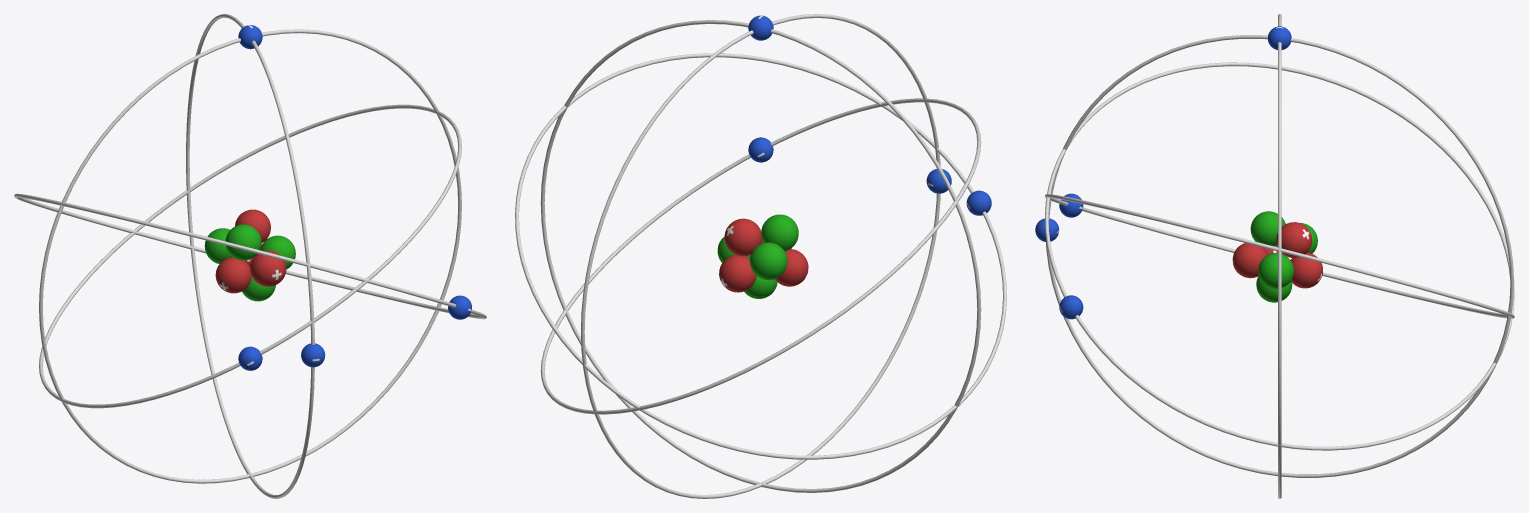
3 renders of one model, left to right at view 1: azimuth 30°, elevation 25°; view 2: azimuth 150°, elevation 25°; view 3: azimuth 270°, elevation 25°, orthographic. The views are drawn at different scales.
Parts seen in each view (by area): view 1: Orbit.011, Orbit.010, Orbit.009, Orbit.008, Proton.001, Proton.003, Neutron.002, Proton.002, Neutron.004, Neutron.003; view 2: Orbit.011, Orbit.010, Orbit.009, Orbit.008, Neutron.004, Proton.002, Proton.000, Neutron.002, Proton.001; view 3: Orbit.009, Orbit.008, Orbit.010, Orbit.011, Neutron.003, Proton.002, Proton.003, Proton.000, Neutron.002.
Part boxes in pixels (x1,y1,x2,y2): Orbit.011: (39,29,461,483); Orbit.010: (39,104,461,408); Orbit.009: (186,14,314,498); Orbit.008: (14,193,486,319); Proton.001: (215,257,251,293); Proton.003: (250,250,286,286); Neutron.002: (225,224,261,260); Proton.002: (235,209,270,242); Neutron.004: (204,228,232,263); Neutron.003: (260,235,295,269); Orbit.011: (540,20,981,492); Orbit.010: (515,53,1006,459); Orbit.009: (581,14,940,498); Orbit.008: (540,98,981,414); Neutron.004: (750,242,787,280); Proton.002: (724,218,762,256); Proton.000: (719,255,756,292); Neutron.002: (761,214,798,251); Proton.001: (775,249,808,286); Orbit.009: (1046,35,1513,477); Orbit.008: (1045,62,1514,450); Orbit.010: (1045,194,1514,318); Orbit.011: (1278,14,1281,498); Neutron.003: (1258,253,1293,288); Proton.002: (1276,222,1312,257); Proton.003: (1232,243,1267,278); Proton.000: (1290,252,1322,288); Neutron.002: (1250,211,1285,246).
Bounding box in the file's own units: 10.08 × 10.29 × 9.96.
Materials: 4 (3 with a texture image).
